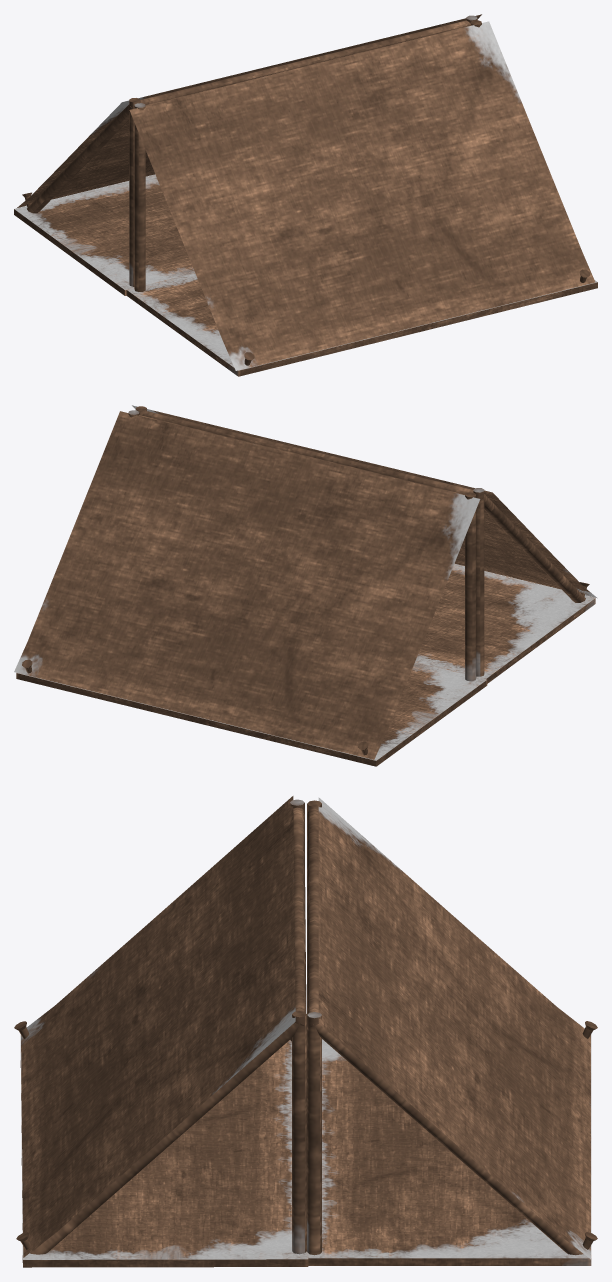
File: tent.obj
The picture shows the model from 3 angles, top to bottom: view 1: azimuth 30°, elevation 25°; view 2: azimuth 150°, elevation 25°; view 3: azimuth 270°, elevation 25°; orthographic projection. The views are drawn at different scales.
Parts seen in each view (by area): view 1: Plane003; view 2: Plane003; view 3: Plane003.
Part boxes in pixels (box(x1,y1,x2,y2)): Plane003: box(14, 14, 597, 376); Plane003: box(14, 405, 597, 766); Plane003: box(14, 796, 597, 1267).
Bounding box in the file's own units: 179 × 91.22 × 194.
Materials: 1 (1 with a texture image).
